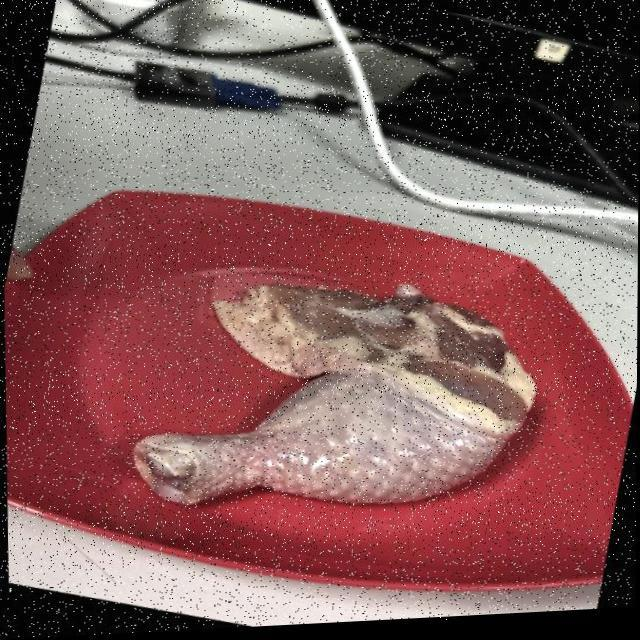quater: (137, 268, 552, 523)
